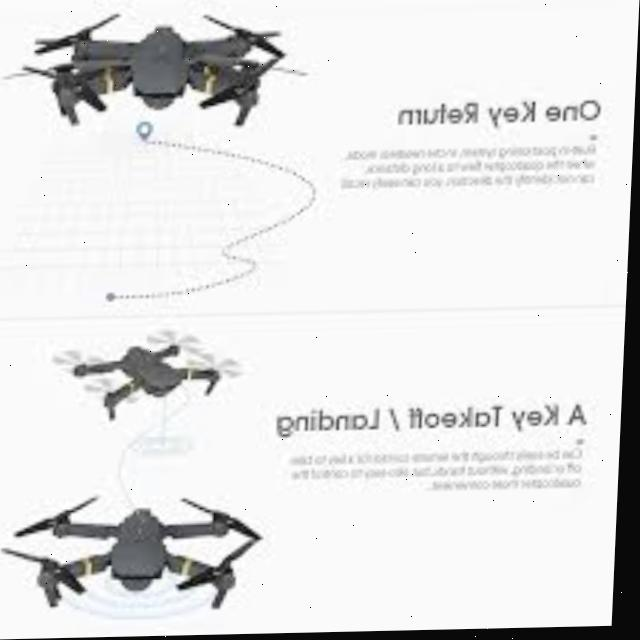drone: (7, 1, 326, 149), (6, 484, 269, 631), (54, 318, 250, 440)
